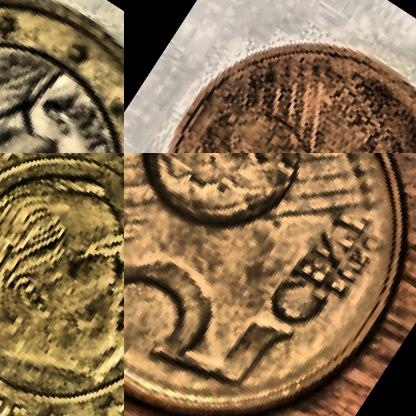coin: (124, 153, 415, 415), (124, 0, 415, 152), (0, 153, 123, 415), (0, 0, 123, 152)
